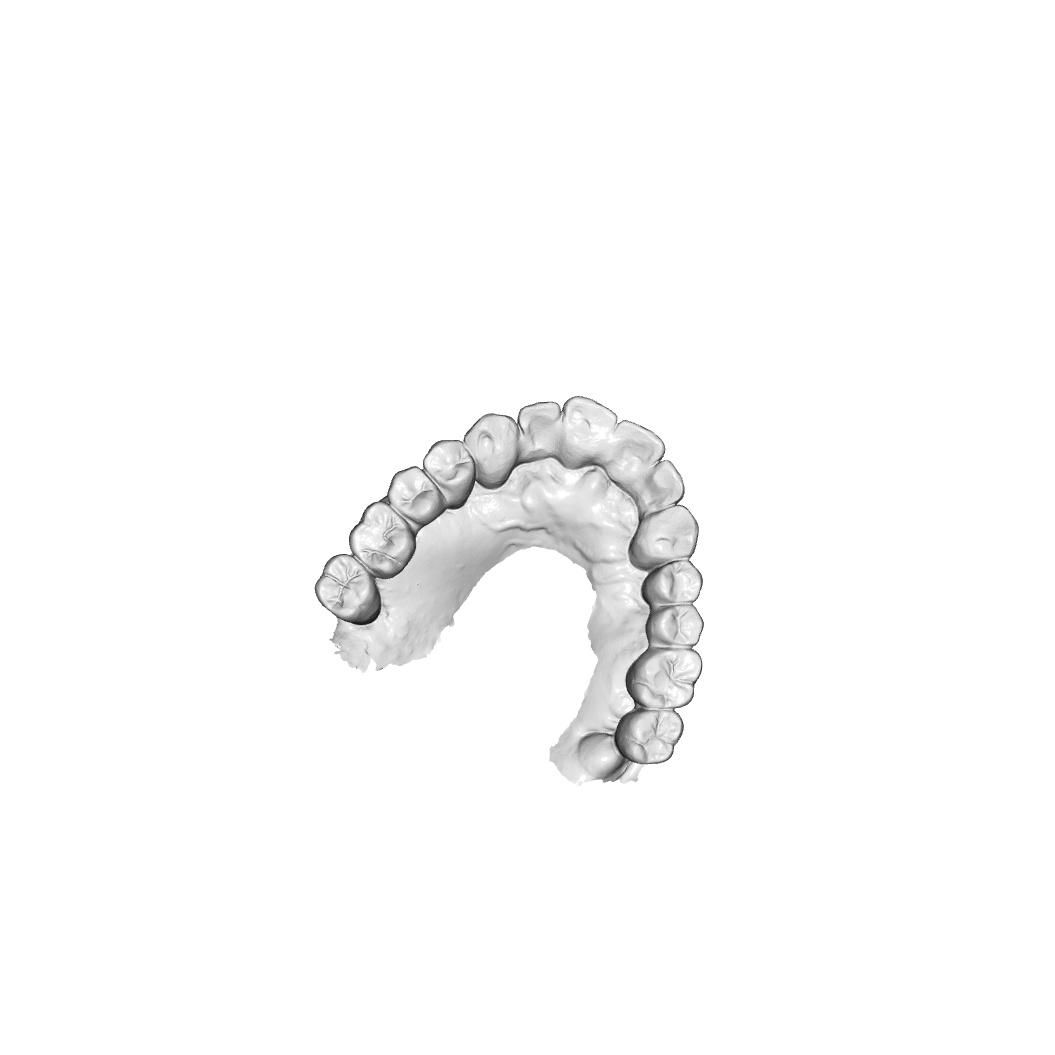canine: (628, 504, 700, 572), (463, 412, 520, 490)
incisor: (560, 394, 618, 445), (517, 400, 562, 459), (613, 417, 666, 466), (646, 458, 687, 505)
molar: (347, 501, 417, 580), (624, 647, 704, 709), (314, 554, 382, 626), (614, 708, 685, 765)
premolar: (422, 439, 477, 510), (387, 465, 445, 527), (641, 559, 704, 605), (644, 604, 705, 647)
